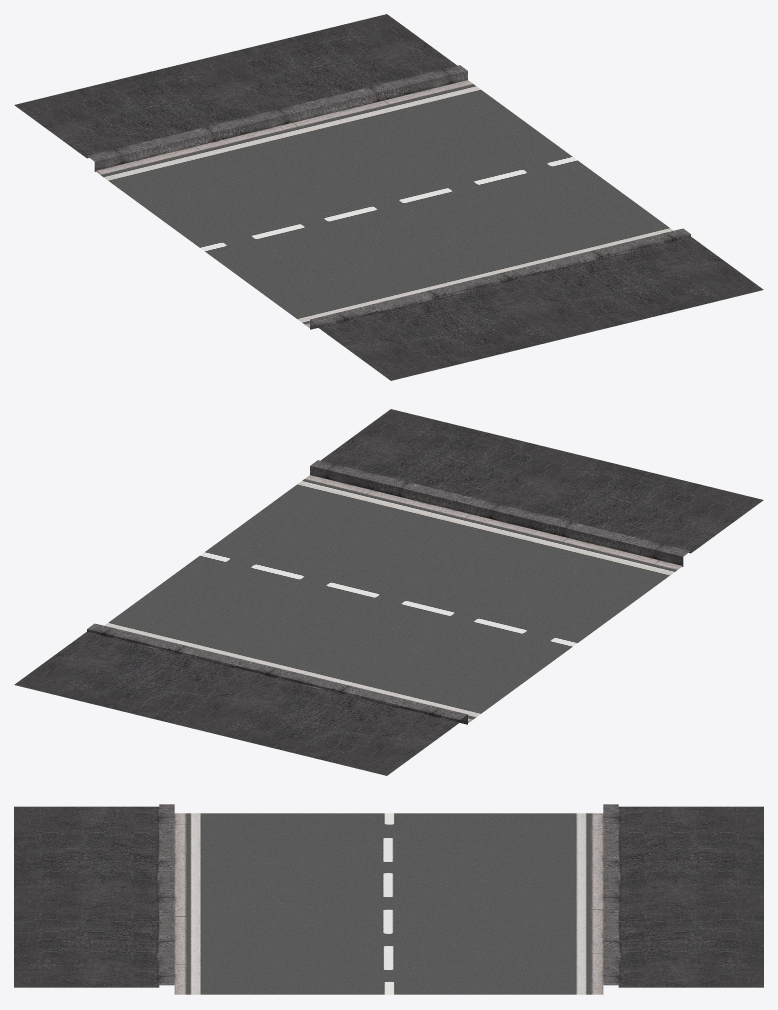
Rendered from 2 lines_mobile.FBX.
3 renders of one model, top to bottom at view 1: azimuth 30°, elevation 25°; view 2: azimuth 150°, elevation 25°; view 3: azimuth 270°, elevation 25°, orthographic.
Visible parts, largest first — view 1: Object075; view 2: Object075; view 3: Object075.
Boxes of the visible parts, box(x1,y1,x2,y2) form: Object075: box(14, 14, 763, 380); Object075: box(14, 409, 763, 775); Object075: box(14, 804, 763, 994).
Size of the model in its own units: 12 by 0.3184 by 21.
